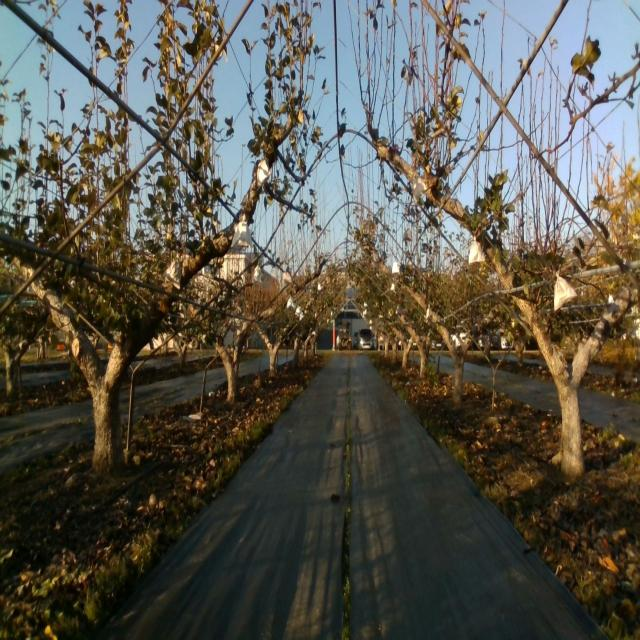pearbags: (553, 270, 578, 314), (229, 210, 254, 250), (161, 253, 183, 289), (468, 234, 486, 266), (255, 157, 273, 188), (412, 175, 428, 208)
